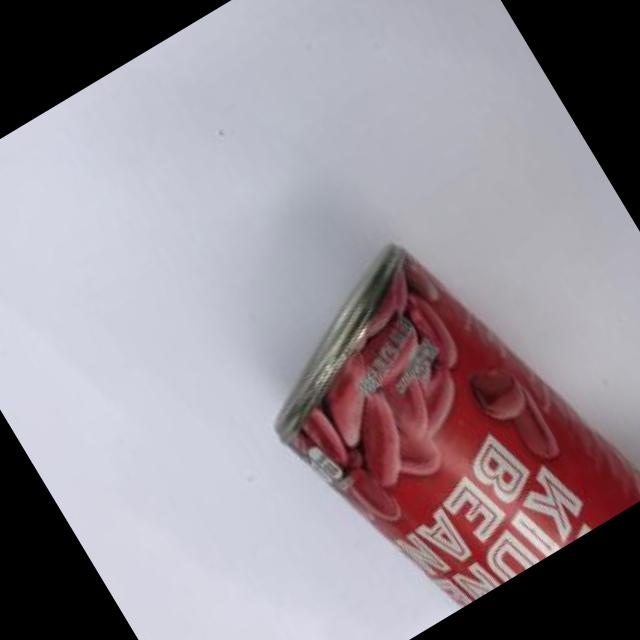Kaleng: (219, 184, 640, 640)
